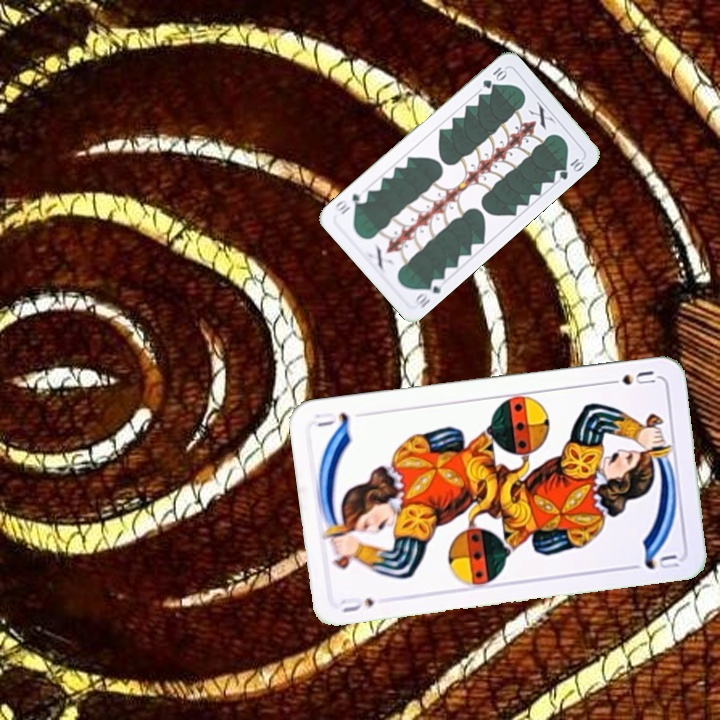G10: (410, 274, 447, 310), (478, 63, 509, 91)
SU: (600, 366, 658, 388), (337, 593, 376, 616)
